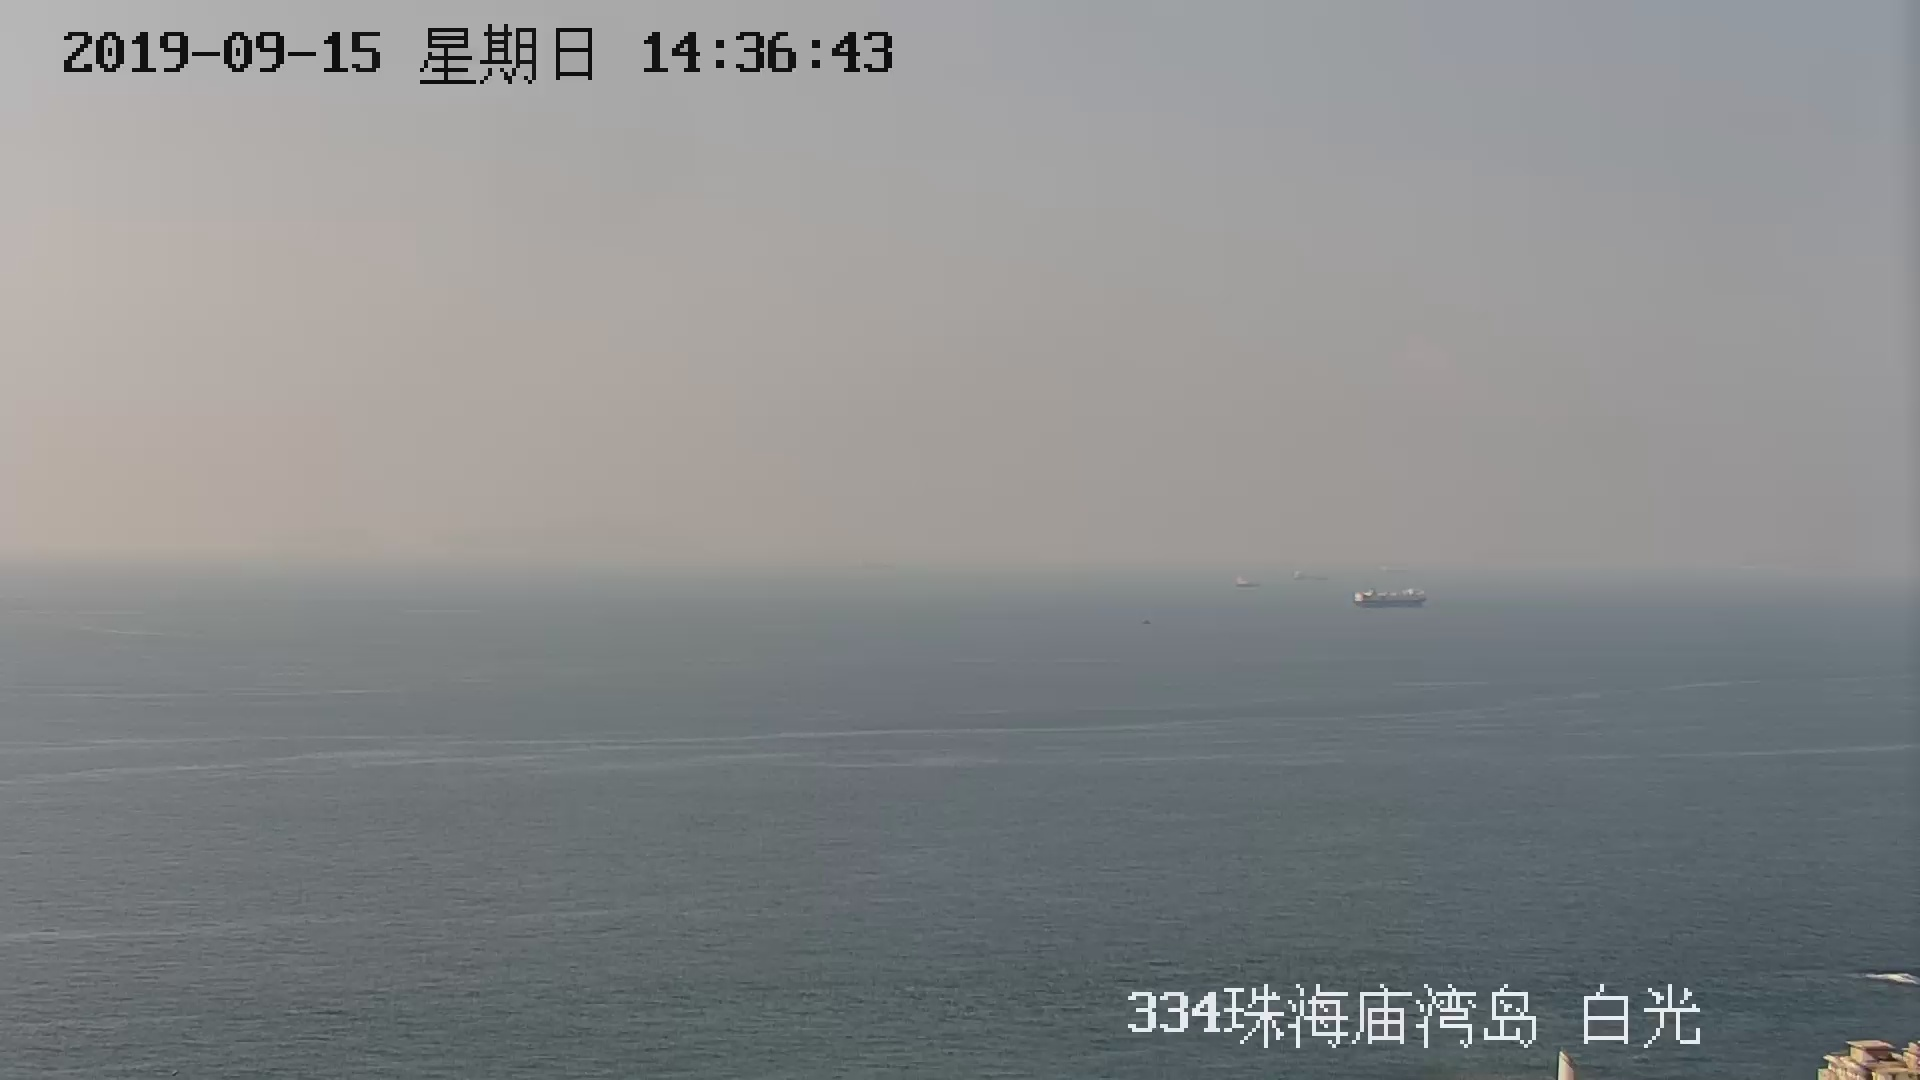ship: (1353, 588, 1427, 611)
